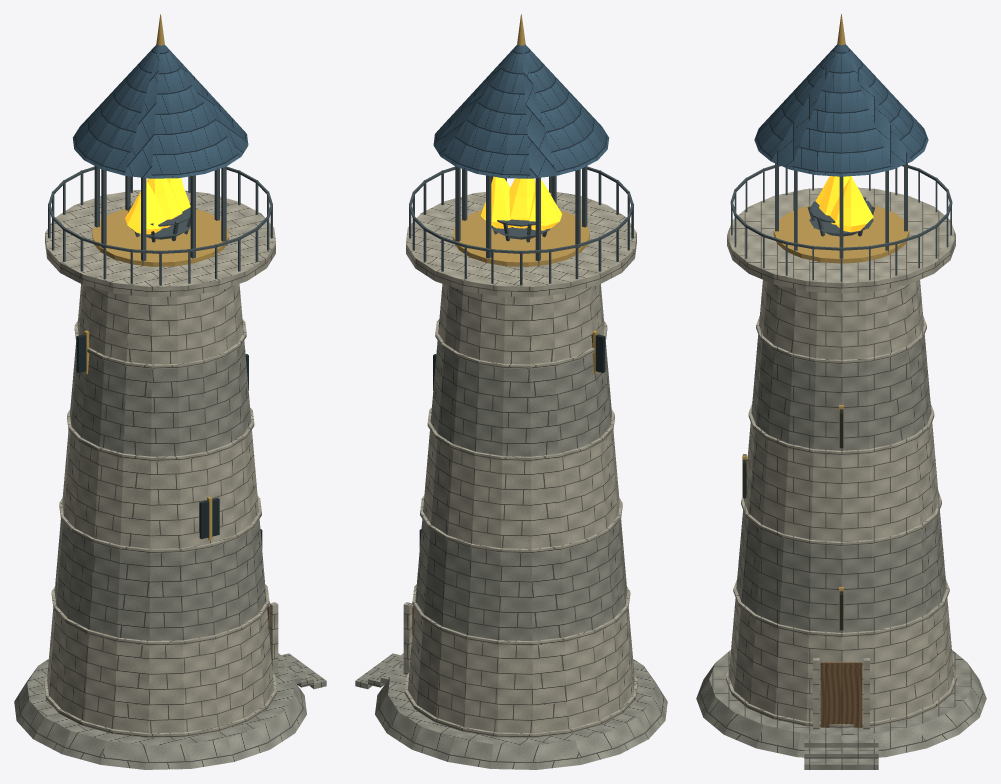
Rendered from LighthouseV19.glb.
The picture shows the model from 3 angles, left to right: view 1: azimuth 30°, elevation 25°; view 2: azimuth 150°, elevation 25°; view 3: azimuth 270°, elevation 25°; orthographic projection.
Parts seen in each view (by area): view 1: Lighthouse masonry gallery and lantern, Roof_Lighthouse_copper_cap, Flame_Lighthouse, Lighthouse beacon fire basket; view 2: Lighthouse masonry gallery and lantern, Roof_Lighthouse_copper_cap, Flame_Lighthouse, Lighthouse beacon fire basket; view 3: Lighthouse masonry gallery and lantern, Roof_Lighthouse_copper_cap, Flame_Lighthouse, Lighthouse beacon fire basket.
Boxes of the visible parts, left/top/right/bottom form: Lighthouse masonry gallery and lantern: left=14, top=166, right=326, bottom=769; Roof_Lighthouse_copper_cap: left=73, top=14, right=248, bottom=178; Flame_Lighthouse: left=125, top=178, right=190, bottom=234; Lighthouse beacon fire basket: left=127, top=203, right=190, bottom=242; Lighthouse masonry gallery and lantern: left=355, top=166, right=667, bottom=769; Roof_Lighthouse_copper_cap: left=433, top=14, right=608, bottom=178; Flame_Lighthouse: left=480, top=176, right=561, bottom=230; Lighthouse beacon fire basket: left=491, top=219, right=550, bottom=242; Lighthouse masonry gallery and lantern: left=696, top=163, right=986, bottom=769; Roof_Lighthouse_copper_cap: left=754, top=14, right=928, bottom=176; Flame_Lighthouse: left=815, top=176, right=873, bottom=232; Lighthouse beacon fire basket: left=807, top=197, right=875, bottom=236.
Bounding box in the file's own units: 9.7 × 23.41 × 9.
Materials: 9 (4 with a texture image).
